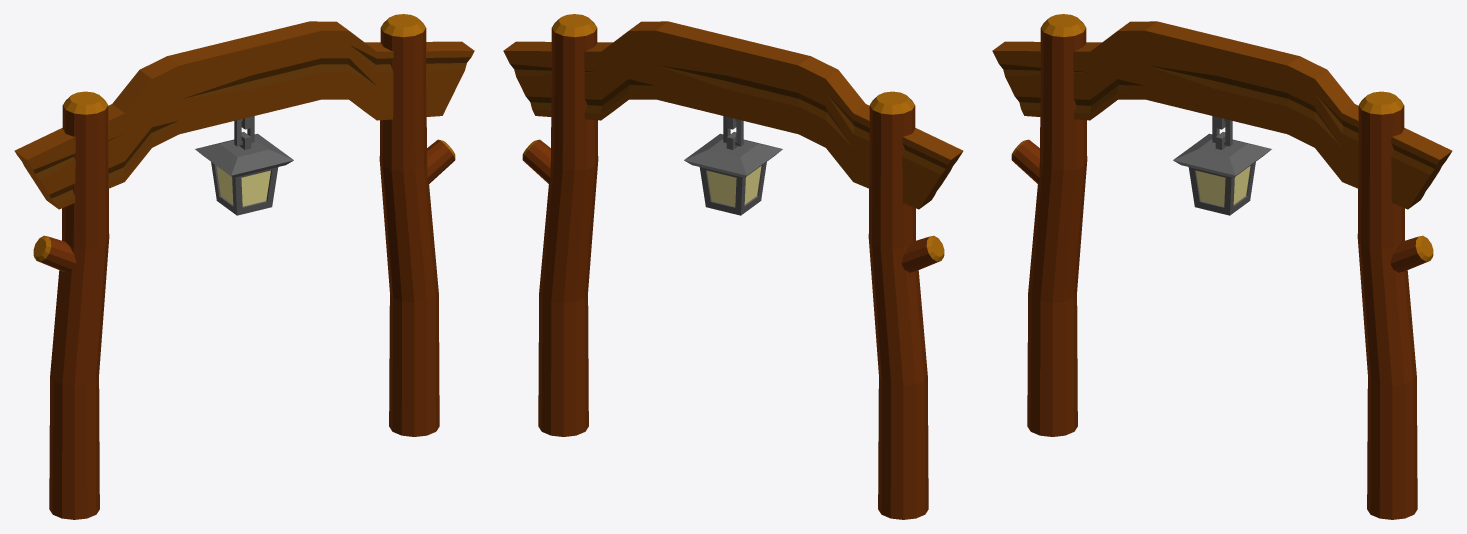
File: VillageGate_01.fbx
3 views of the same model, side by side, from view 1: azimuth 30°, elevation 25°; view 2: azimuth 150°, elevation 25°; view 3: azimuth 330°, elevation 25° (orthographic).
Visible parts, largest first — view 1: VillageGate_01; view 2: VillageGate_01; view 3: VillageGate_01.
Part boxes in pixels (x1,y1,x2,y2): VillageGate_01: [14, 14, 474, 519]; VillageGate_01: [503, 14, 963, 519]; VillageGate_01: [992, 14, 1452, 519].
Size of the model in its own units: 409 by 370 by 57.6.
Materials: 1 (1 with a texture image).
